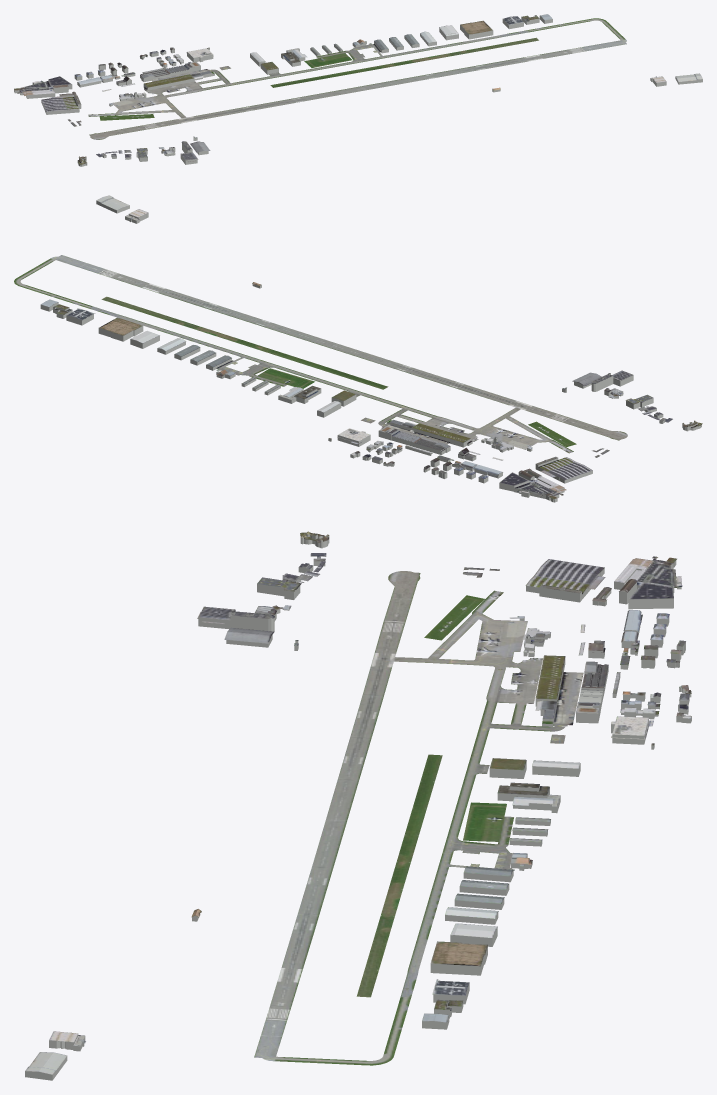
The model's file is LSZR_Airport.glb.
3 renders of one model, top to bottom at view 1: azimuth 30°, elevation 25°; view 2: azimuth 150°, elevation 25°; view 3: azimuth 270°, elevation 25°, orthographic. The views are drawn at different scales.
Parts seen in each view (by area): view 1: pavement_LSZR_pavement_5519_2523, pavement_LSZR_pavement_5518_2523, pavement_LSZR_pavement_5520_2523, building_f505e915e7da34d4, pavement_LSZR_pavement_5520_2522, building_94b79ea9e1cef14e, building_711fe4f79534ae4e, building_34af874e102ae2c6, building_464fec6a47665ffa, building_0279c093b43ac821, building_bf431d646388319d, pavement_LSZR_pavement_5521_2522 (+8 smaller); view 2: pavement_LSZR_pavement_5519_2523, pavement_LSZR_pavement_5518_2523, pavement_LSZR_pavement_5520_2523, building_f505e915e7da34d4, pavement_LSZR_pavement_5520_2522, building_94b79ea9e1cef14e, building_711fe4f79534ae4e, building_34af874e102ae2c6, building_464fec6a47665ffa, building_0279c093b43ac821, building_c127dc3020412071, pavement_LSZR_pavement_5521_2522 (+4 smaller); view 3: pavement_LSZR_pavement_5519_2523, pavement_LSZR_pavement_5518_2523, pavement_LSZR_pavement_5520_2523, building_f505e915e7da34d4, pavement_LSZR_pavement_5520_2522, building_94b79ea9e1cef14e, building_711fe4f79534ae4e, building_464fec6a47665ffa, pavement_LSZR_pavement_5521_2522, building_c127dc3020412071, building_bf431d646388319d, building_b0a01ed62aca6543 (+11 smaller).
Boxes of the visible parts, x1,y1,x2,y2 form: pavement_LSZR_pavement_5519_2523: [184, 47, 403, 112]; pavement_LSZR_pavement_5518_2523: [88, 73, 237, 139]; pavement_LSZR_pavement_5520_2523: [355, 28, 538, 83]; building_f505e915e7da34d4: [140, 61, 214, 89]; pavement_LSZR_pavement_5520_2522: [415, 50, 570, 81]; building_94b79ea9e1cef14e: [14, 76, 71, 95]; building_711fe4f79534ae4e: [41, 91, 80, 112]; building_34af874e102ae2c6: [140, 62, 214, 90]; building_464fec6a47665ffa: [439, 20, 492, 36]; building_0279c093b43ac821: [74, 64, 135, 87]; building_bf431d646388319d: [125, 141, 198, 162]; pavement_LSZR_pavement_5521_2522: [566, 32, 626, 53]; pavement_LSZR_pavement_5519_2523: [237, 331, 473, 434]; pavement_LSZR_pavement_5518_2523: [410, 387, 627, 453]; pavement_LSZR_pavement_5520_2523: [79, 296, 296, 374]; building_f505e915e7da34d4: [379, 419, 472, 451]; pavement_LSZR_pavement_5520_2522: [115, 274, 284, 326]; building_94b79ea9e1cef14e: [500, 470, 566, 499]; building_711fe4f79534ae4e: [523, 456, 592, 480]; building_34af874e102ae2c6: [378, 422, 472, 454]; building_464fec6a47665ffa: [99, 317, 159, 343]; building_0279c093b43ac821: [423, 457, 502, 483]; building_c127dc3020412071: [591, 373, 656, 412]; pavement_LSZR_pavement_5521_2522: [37, 255, 120, 278]; pavement_LSZR_pavement_5519_2523: [315, 703, 577, 854]; pavement_LSZR_pavement_5518_2523: [360, 571, 583, 703]; pavement_LSZR_pavement_5520_2523: [313, 855, 514, 1006]; building_f505e915e7da34d4: [535, 655, 608, 724]; pavement_LSZR_pavement_5520_2522: [270, 864, 312, 1006]; building_94b79ea9e1cef14e: [614, 556, 682, 599]; building_711fe4f79534ae4e: [525, 559, 611, 602]; building_464fec6a47665ffa: [430, 923, 497, 966]; pavement_LSZR_pavement_5521_2522: [254, 1006, 312, 1062]; building_c127dc3020412071: [198, 578, 301, 631]; building_bf431d646388319d: [197, 573, 301, 624]; building_b0a01ed62aca6543: [620, 610, 685, 665].
Bounding box in the file's own units: 1794 × 26.56 × 930.
Materials: 3 (2 with a texture image).
